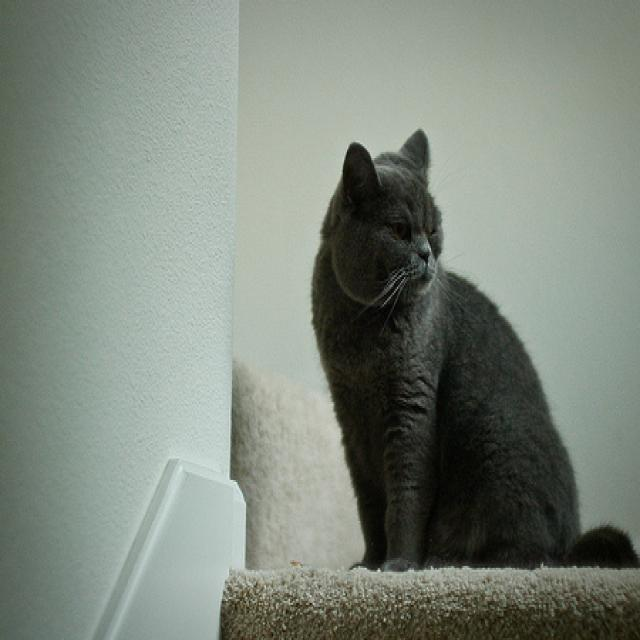British Shorthair: (306, 121, 640, 579)
